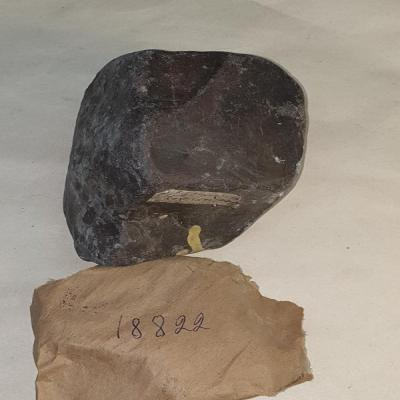mineralogy: (63, 50, 310, 268)
